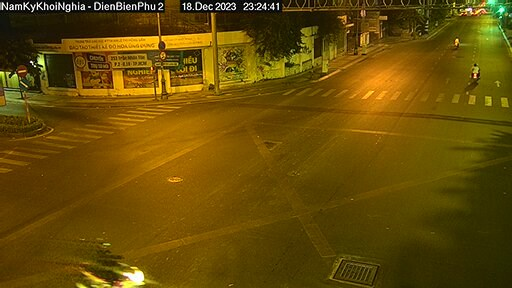motorbike: (469, 61, 480, 82), (453, 36, 462, 51)
